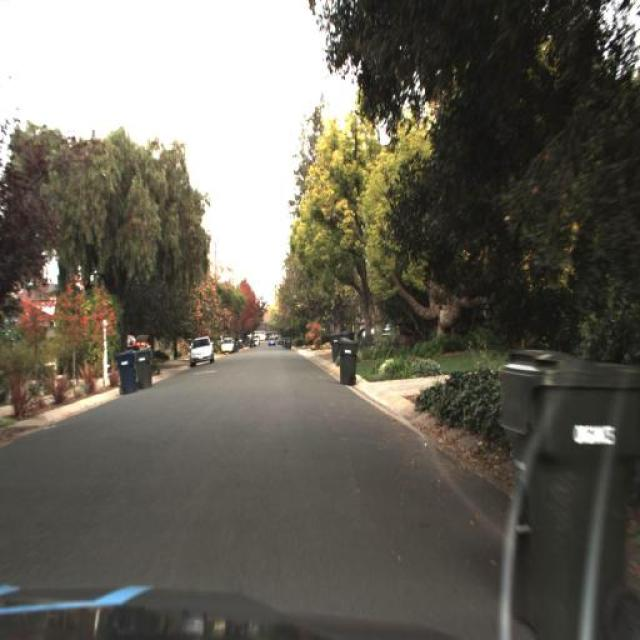car: (185, 332, 217, 372), (190, 334, 216, 367), (123, 330, 151, 355), (221, 337, 235, 355)
